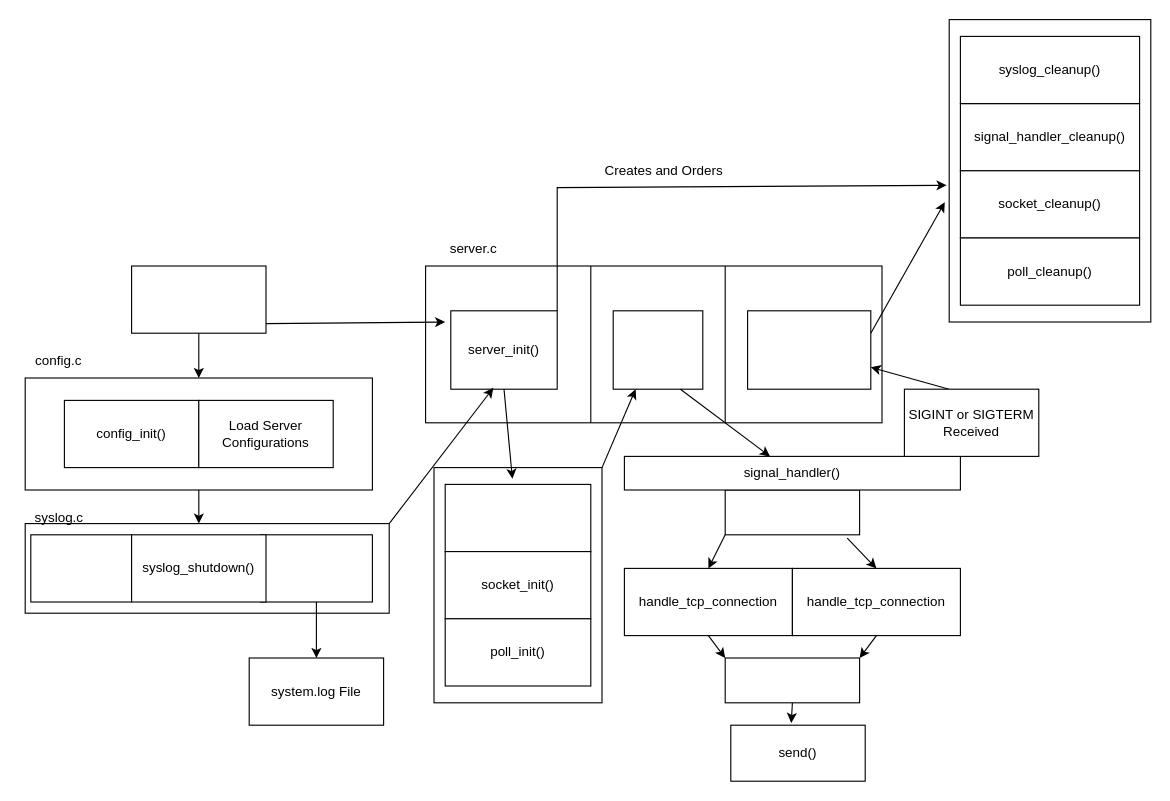
Image size: 1170x801. Some labels were removed from this diagram. The shapes that lost their labels are listed below. From the top down, each one's centre as x and y in pixels, then its label:
pixel 198 299: server_main.c
pixel 657 349: server_run()
pixel 808 349: server_shutdown()
pixel 517 517: signal_handler_init()
pixel 792 512: event occurs
pixel 81 568: syslog_init()
pixel 315 568: syslog_write()
pixel 792 680: format_message()
